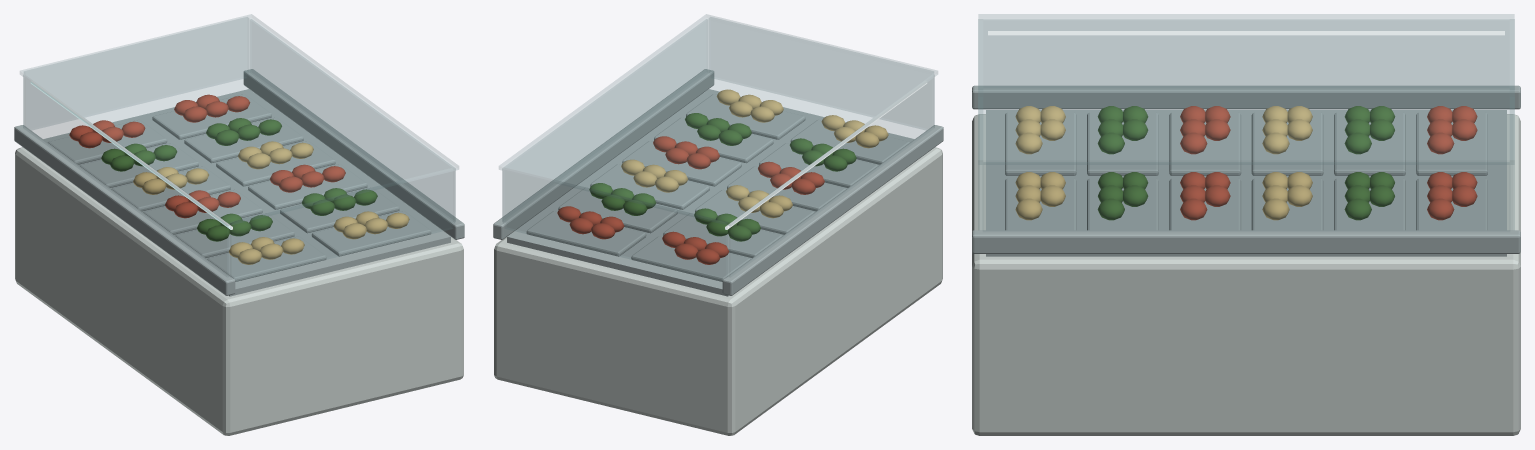
Rendered from prepared.glb.
The picture shows the model from 3 angles, left to right: view 1: azimuth 30°, elevation 25°; view 2: azimuth 150°, elevation 25°; view 3: azimuth 270°, elevation 25°; orthographic projection. The views are drawn at different scales.
Parts seen in each view (by area): view 1: prepared_fixture_Smoked glass approximation, prepared_fixture_Refrigerator enamel, prepared_fixture_Brushed stainless, prepared_detail_cheese, prepared_detail_Leaf green, prepared_detail_tomato, prepared_fixture_Cabinet LED; view 2: prepared_fixture_Smoked glass approximation, prepared_fixture_Refrigerator enamel, prepared_fixture_Brushed stainless, prepared_detail_tomato, prepared_detail_Leaf green, prepared_detail_cheese, prepared_fixture_Cabinet LED; view 3: prepared_fixture_Smoked glass approximation, prepared_fixture_Refrigerator enamel, prepared_fixture_Brushed stainless, prepared_detail_Leaf green, prepared_detail_cheese, prepared_detail_tomato, prepared_fixture_Cabinet LED.
Boxes of the visible parts, x1=… form: prepared_fixture_Smoked glass approximation: x1=20, y1=14, x2=458, y2=281; prepared_fixture_Refrigerator enamel: x1=15, y1=98, x2=463, y2=435; prepared_fixture_Brushed stainless: x1=14, y1=69, x2=464, y2=296; prepared_detail_cheese: x1=133, y1=141, x2=409, y2=264; prepared_detail_Leaf green: x1=101, y1=118, x2=377, y2=241; prepared_detail_tomato: x1=69, y1=94, x2=345, y2=218; prepared_fixture_Cabinet LED: x1=30, y1=80, x2=232, y2=229; prepared_fixture_Smoked glass approximation: x1=499, y1=14, x2=937, y2=281; prepared_fixture_Refrigerator enamel: x1=494, y1=98, x2=942, y2=435; prepared_fixture_Brushed stainless: x1=493, y1=69, x2=943, y2=296; prepared_detail_tomato: x1=557, y1=136, x2=824, y2=264; prepared_detail_Leaf green: x1=589, y1=113, x2=856, y2=241; prepared_detail_cheese: x1=621, y1=89, x2=888, y2=218; prepared_fixture_Cabinet LED: x1=725, y1=80, x2=927, y2=229; prepared_fixture_Smoked glass approximation: x1=978, y1=14, x2=1514, y2=230; prepared_fixture_Refrigerator enamel: x1=972, y1=114, x2=1520, y2=435; prepared_fixture_Brushed stainless: x1=972, y1=85, x2=1520, y2=256; prepared_detail_Leaf green: x1=1097, y1=106, x2=1395, y2=220; prepared_detail_cheese: x1=1015, y1=106, x2=1312, y2=220; prepared_detail_tomato: x1=1180, y1=106, x2=1477, y2=220; prepared_fixture_Cabinet LED: x1=988, y1=31, x2=1504, y2=35.
Size of the model in its own units: 1.7 by 1.44 by 2.6.
